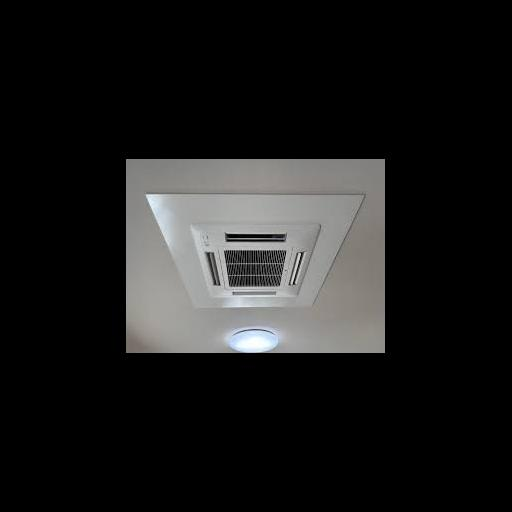4-way-ac: (191, 221, 321, 298)
